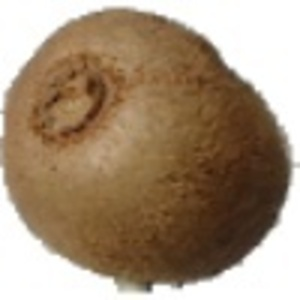kiwi: (1, 5, 296, 296)
